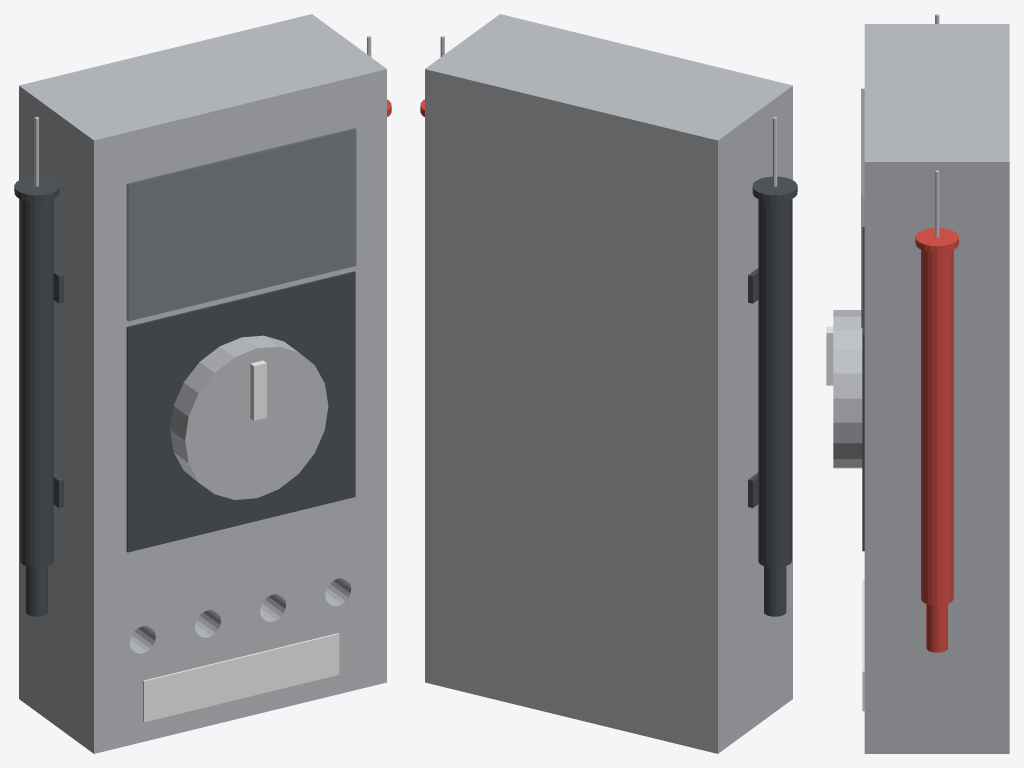
File: tool-dmm.glb
3 renders of one model, left to right at view 1: azimuth 30°, elevation 25°; view 2: azimuth 150°, elevation 25°; view 3: azimuth 270°, elevation 25°, orthographic. The views are drawn at different scales.
Parts seen in each view (by area): view 1: body, display, dial, probe-black; view 2: body, probe-black; view 3: body, probe-red, dial, display.
Boxes of the visible parts, left/top/right/bottom form: body: left=19, top=14, right=386, bottom=753; display: left=126, top=128, right=356, bottom=321; dial: left=170, top=335, right=328, bottom=499; probe-black: left=14, top=117, right=59, bottom=616; body: left=425, top=14, right=792, bottom=753; probe-black: left=752, top=117, right=797, bottom=616; body: left=862, top=24, right=1009, bottom=753; probe-red: left=915, top=170, right=958, bottom=652; dial: left=826, top=310, right=862, bottom=468; display: left=861, top=88, right=864, bottom=327.
Size of what is drawn, in the model's own units: 0.114 by 0.18 by 0.0506.
